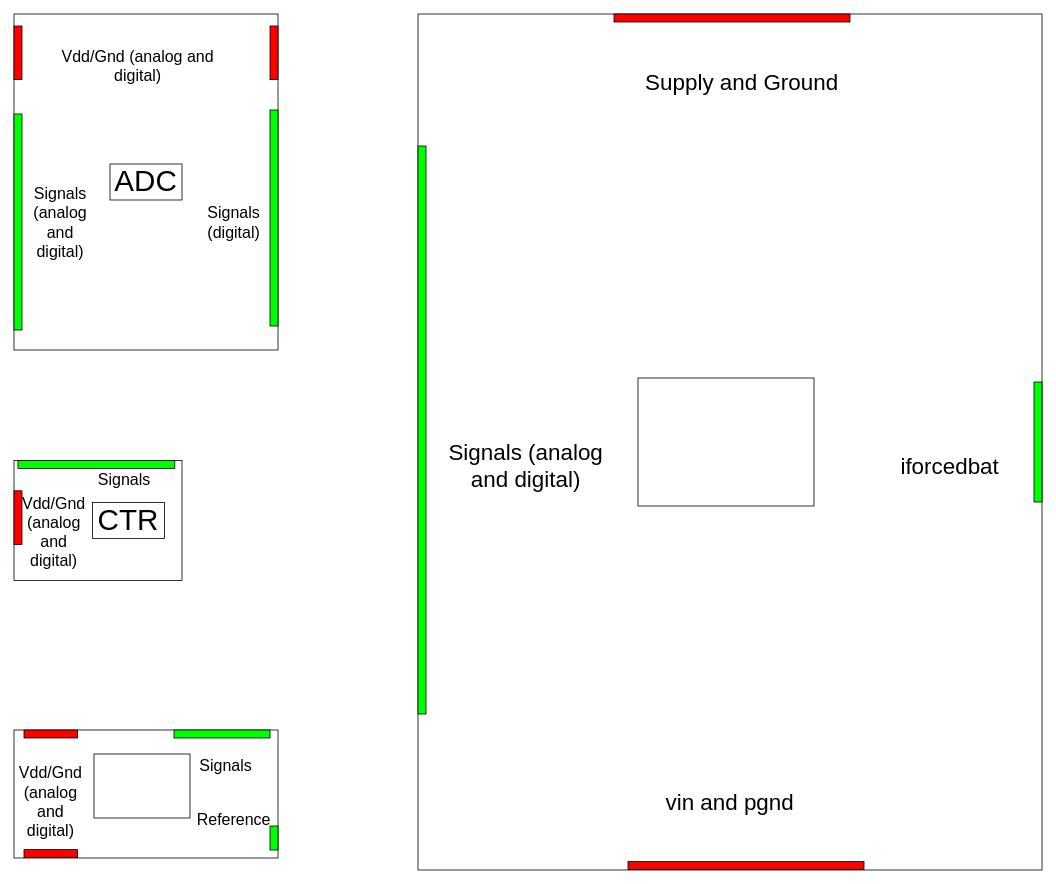
Some shapes in this 1056 by 884 pixel diagram are drawn without their labels. The shapes that lost their labels are listed below. From the top down, each one's box as (x1, y1, x2, y2) in pixels, then its label:
(637, 377, 814, 506): POWER BLOCK
(93, 753, 190, 818): BG
